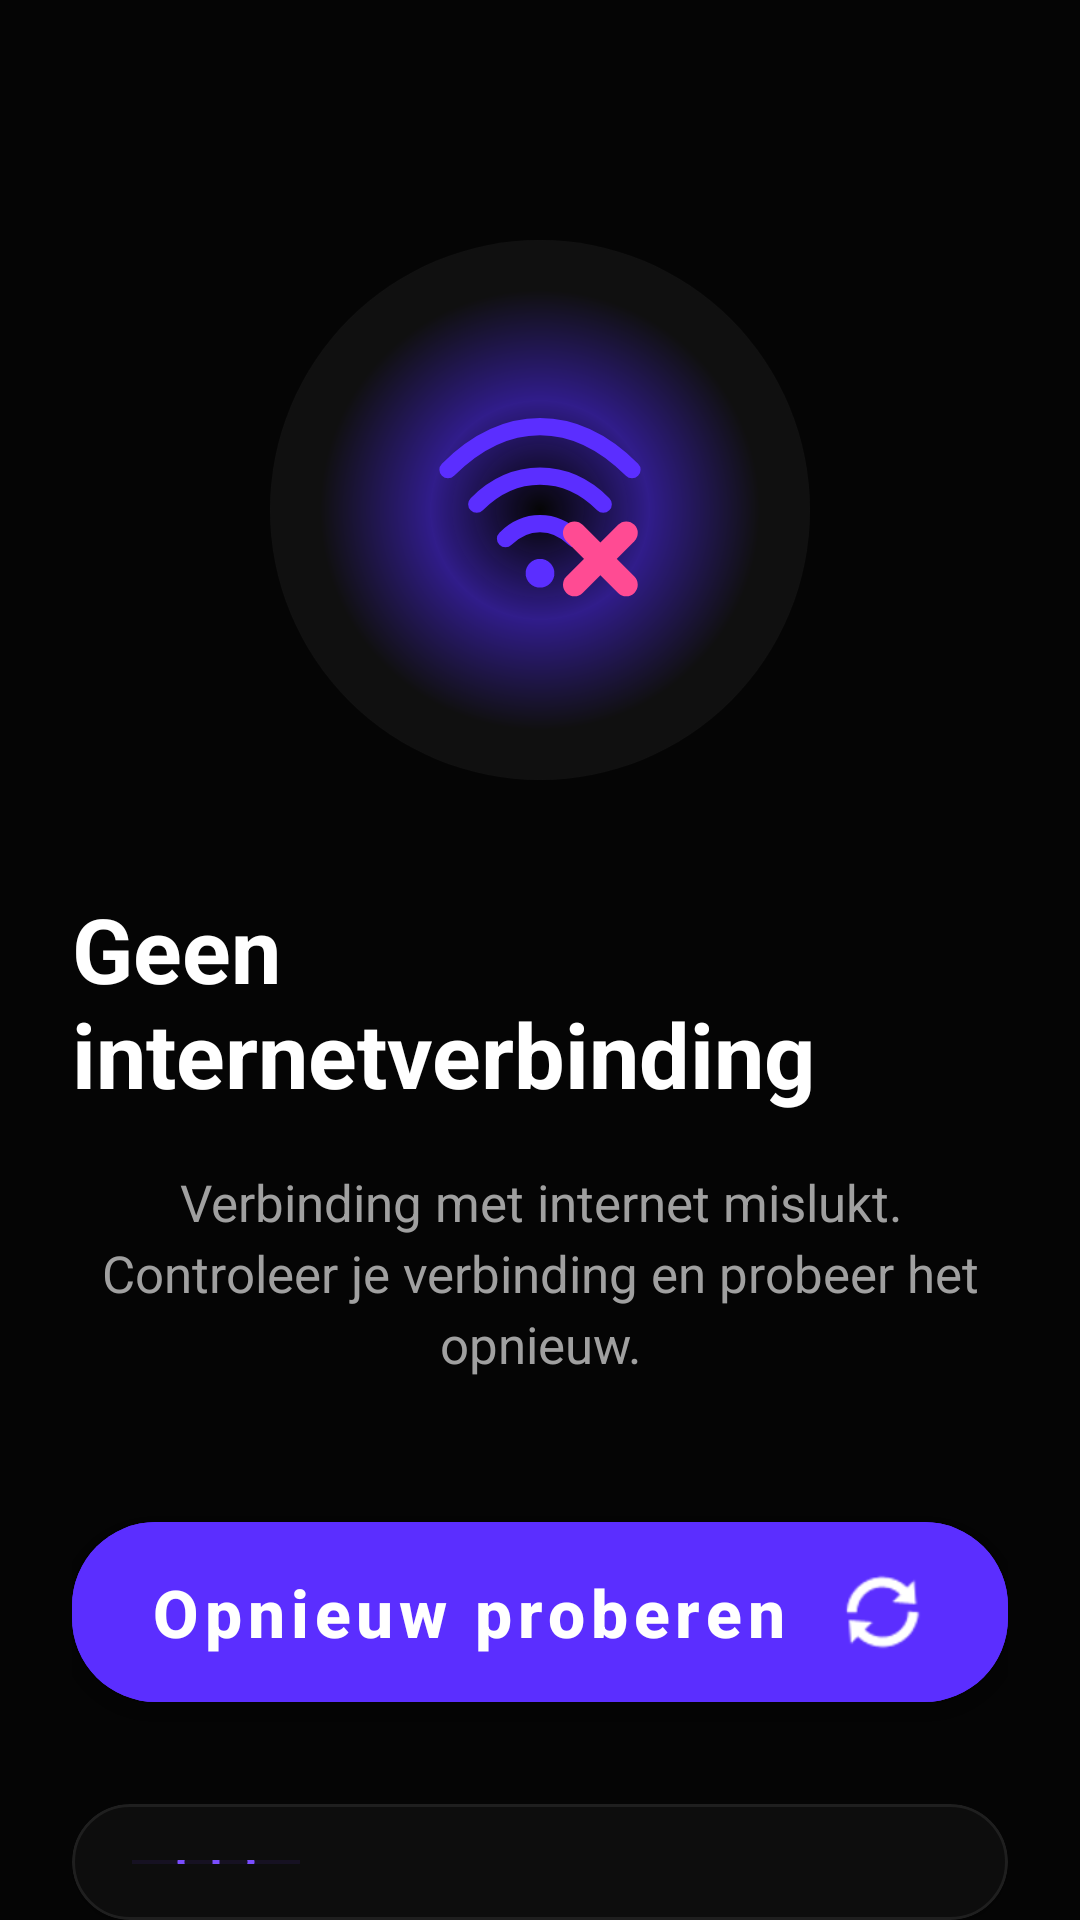

Screen size 1080w x 1920h. Icon name, then its box in pixels as (x1, y1, x2, y2):
no wifi: (417, 387, 663, 633)
